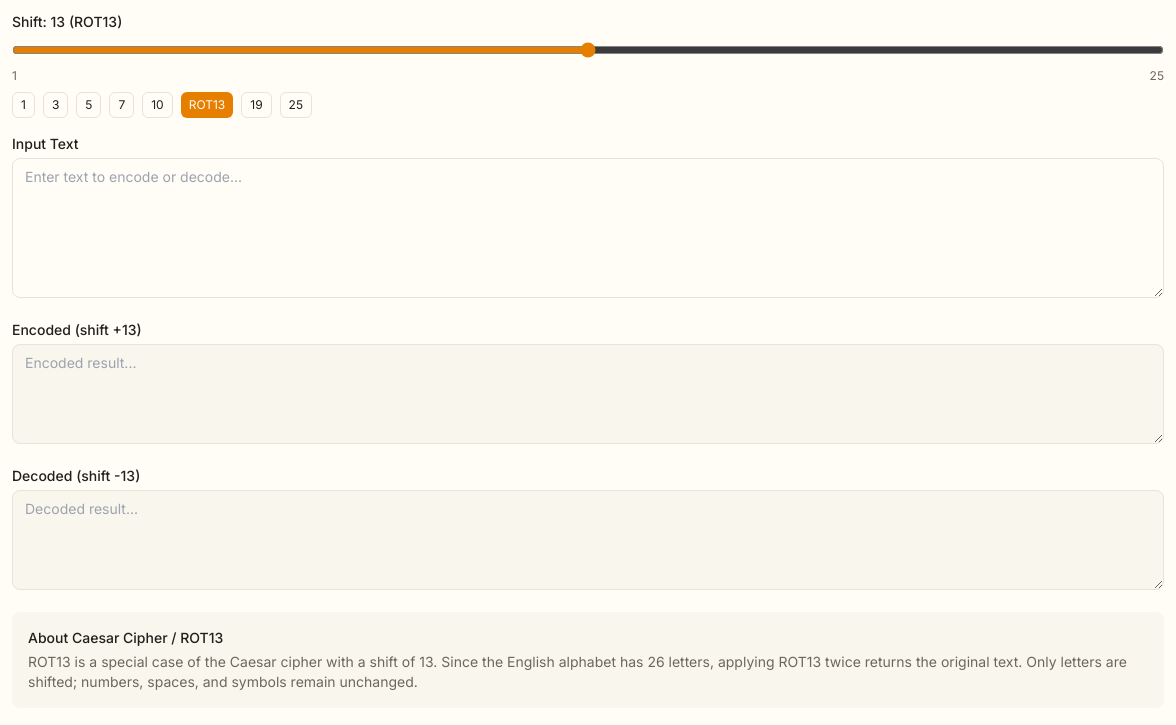
Test: Rot13Encoder › decodes text with ROT13 (shift -13)
In the text box named "Text input": (588, 228) [12,158,1164,298], type "Uryyb"
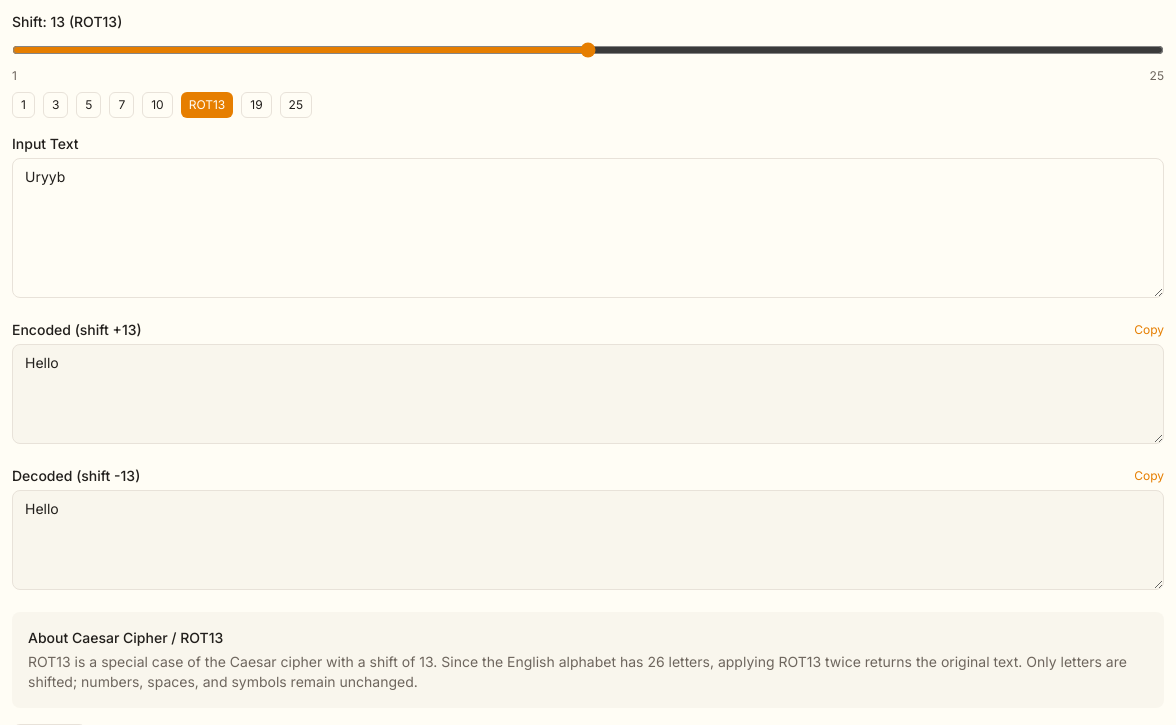
Now the text box named "Decoded output" holds "Hello", box [12,490,1164,590]
